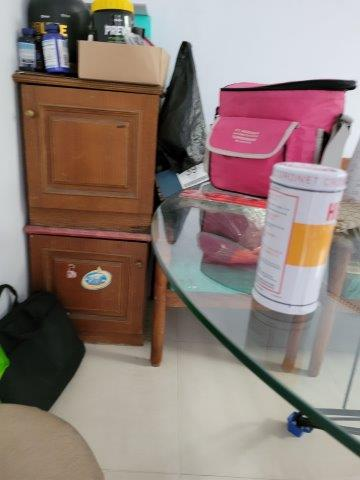kaleng: (253, 163, 346, 314)
